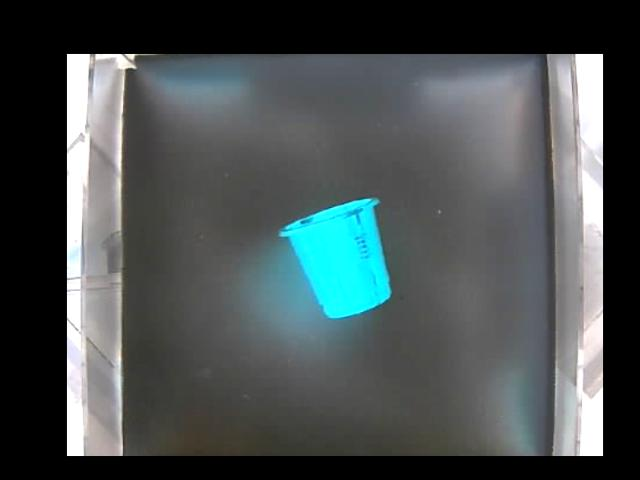Cup: (279, 198, 393, 317)
